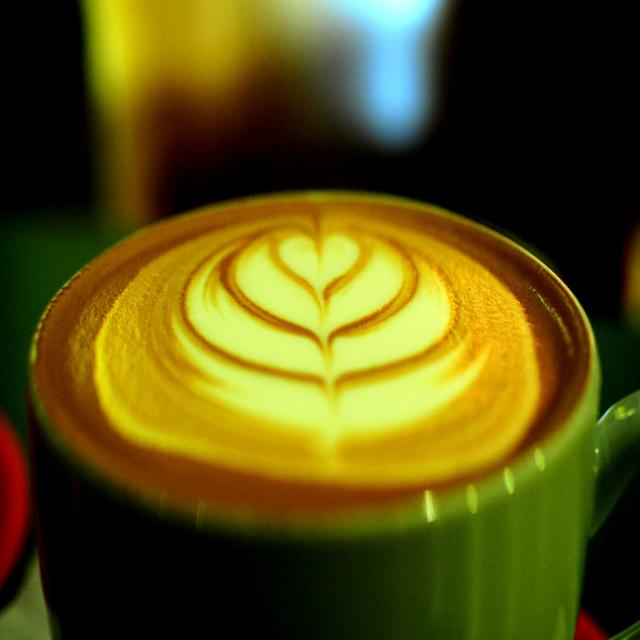latte: (32, 188, 598, 537)
